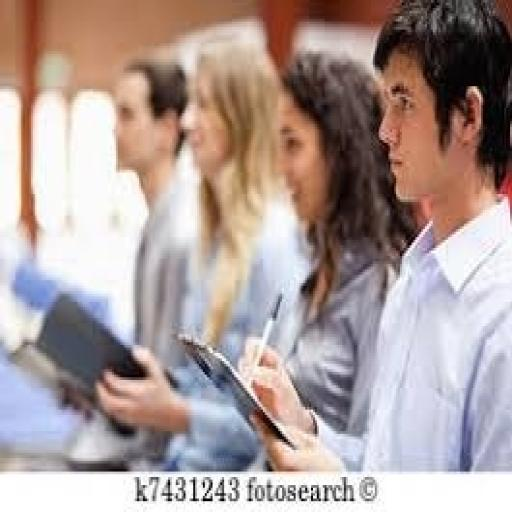clapping: (242, 0, 510, 472), (91, 35, 309, 469)
